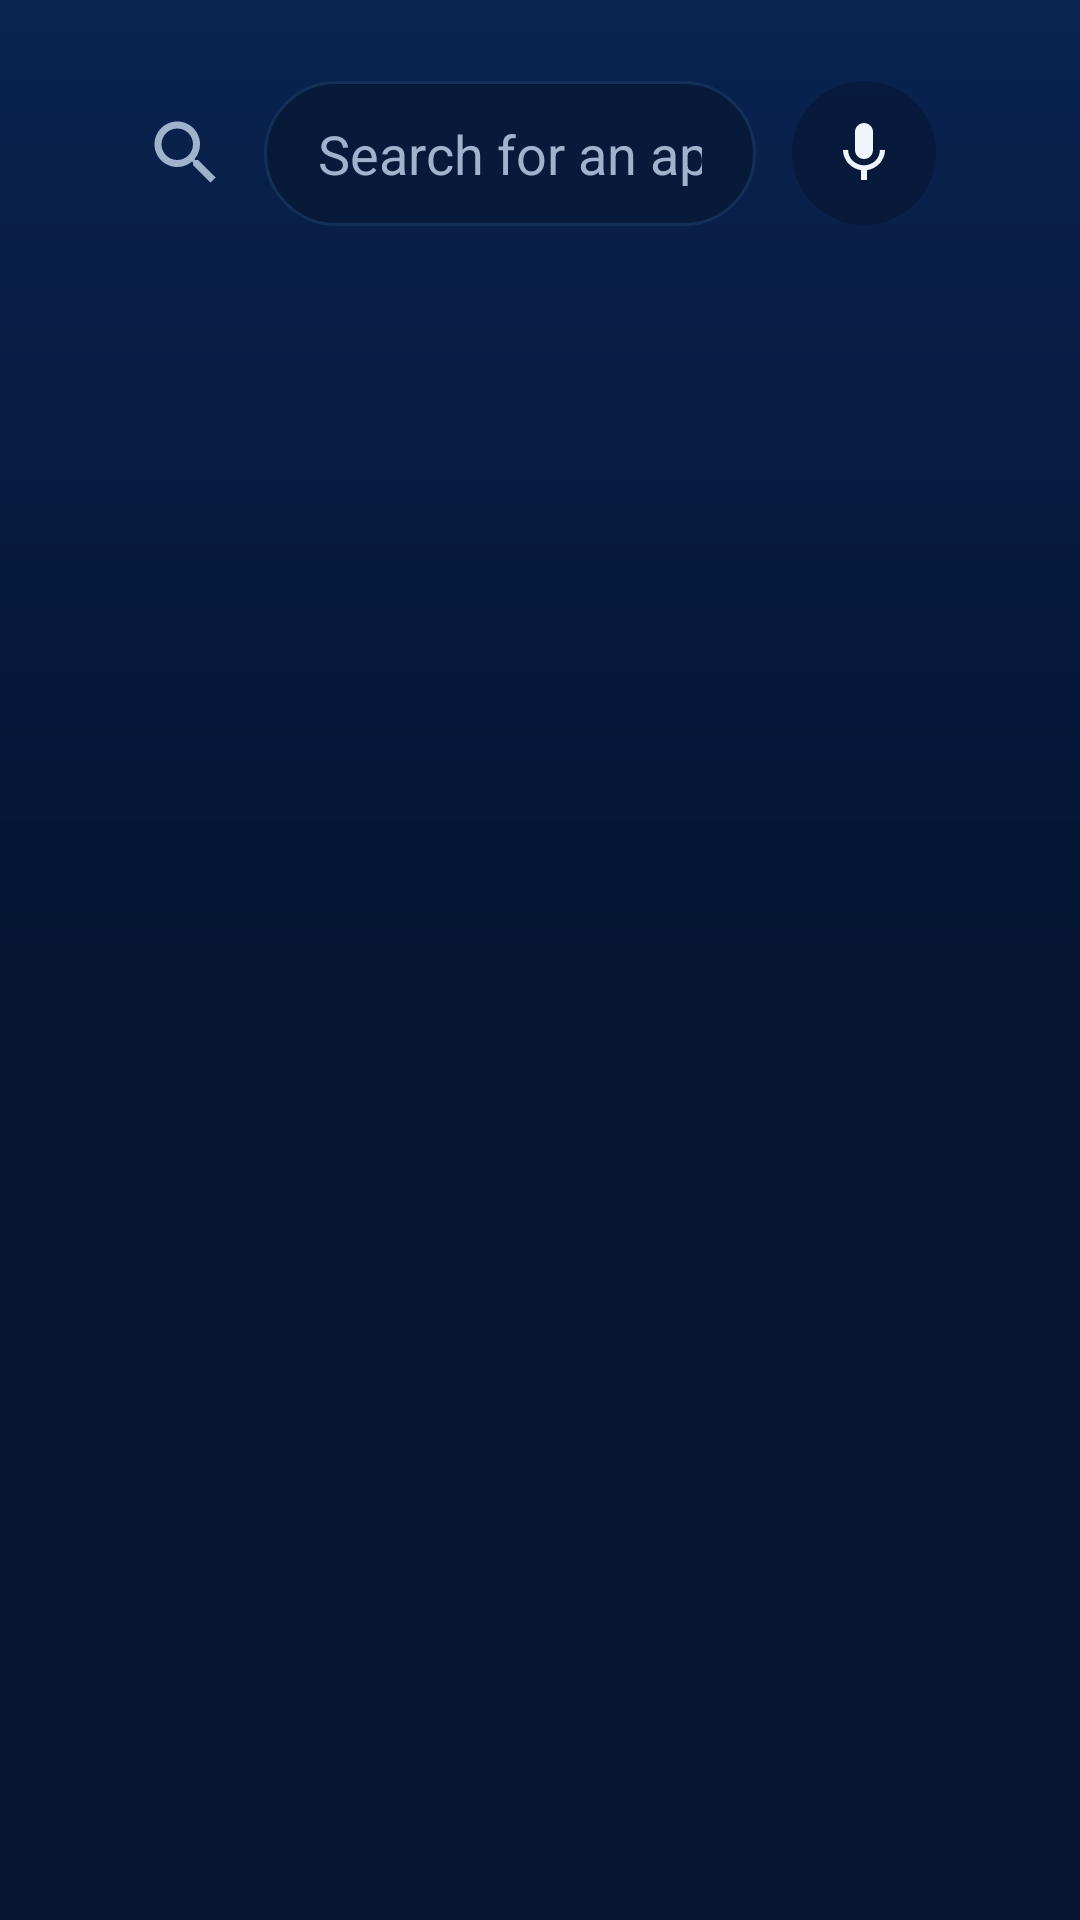

Point at icon controls on the screen. Image size 1080px×1920px, points as (x,y).
Search by voice: (864,153)
